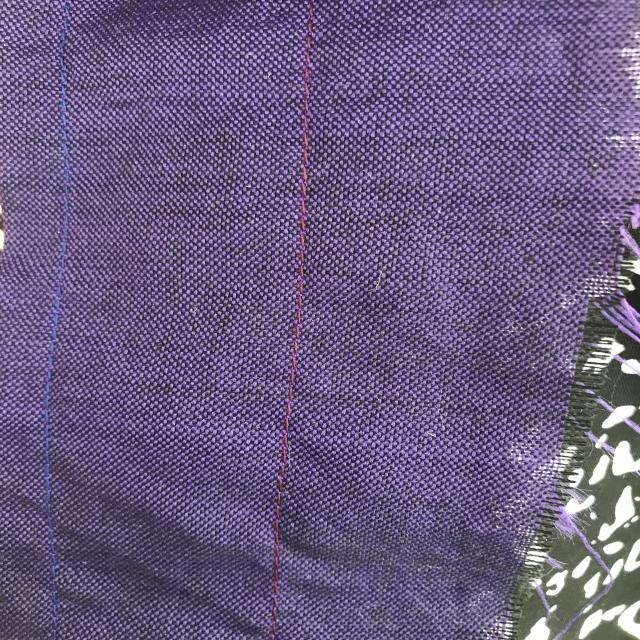good: (282, 85, 321, 407), (256, 442, 294, 596), (36, 342, 67, 518), (53, 95, 82, 265)
